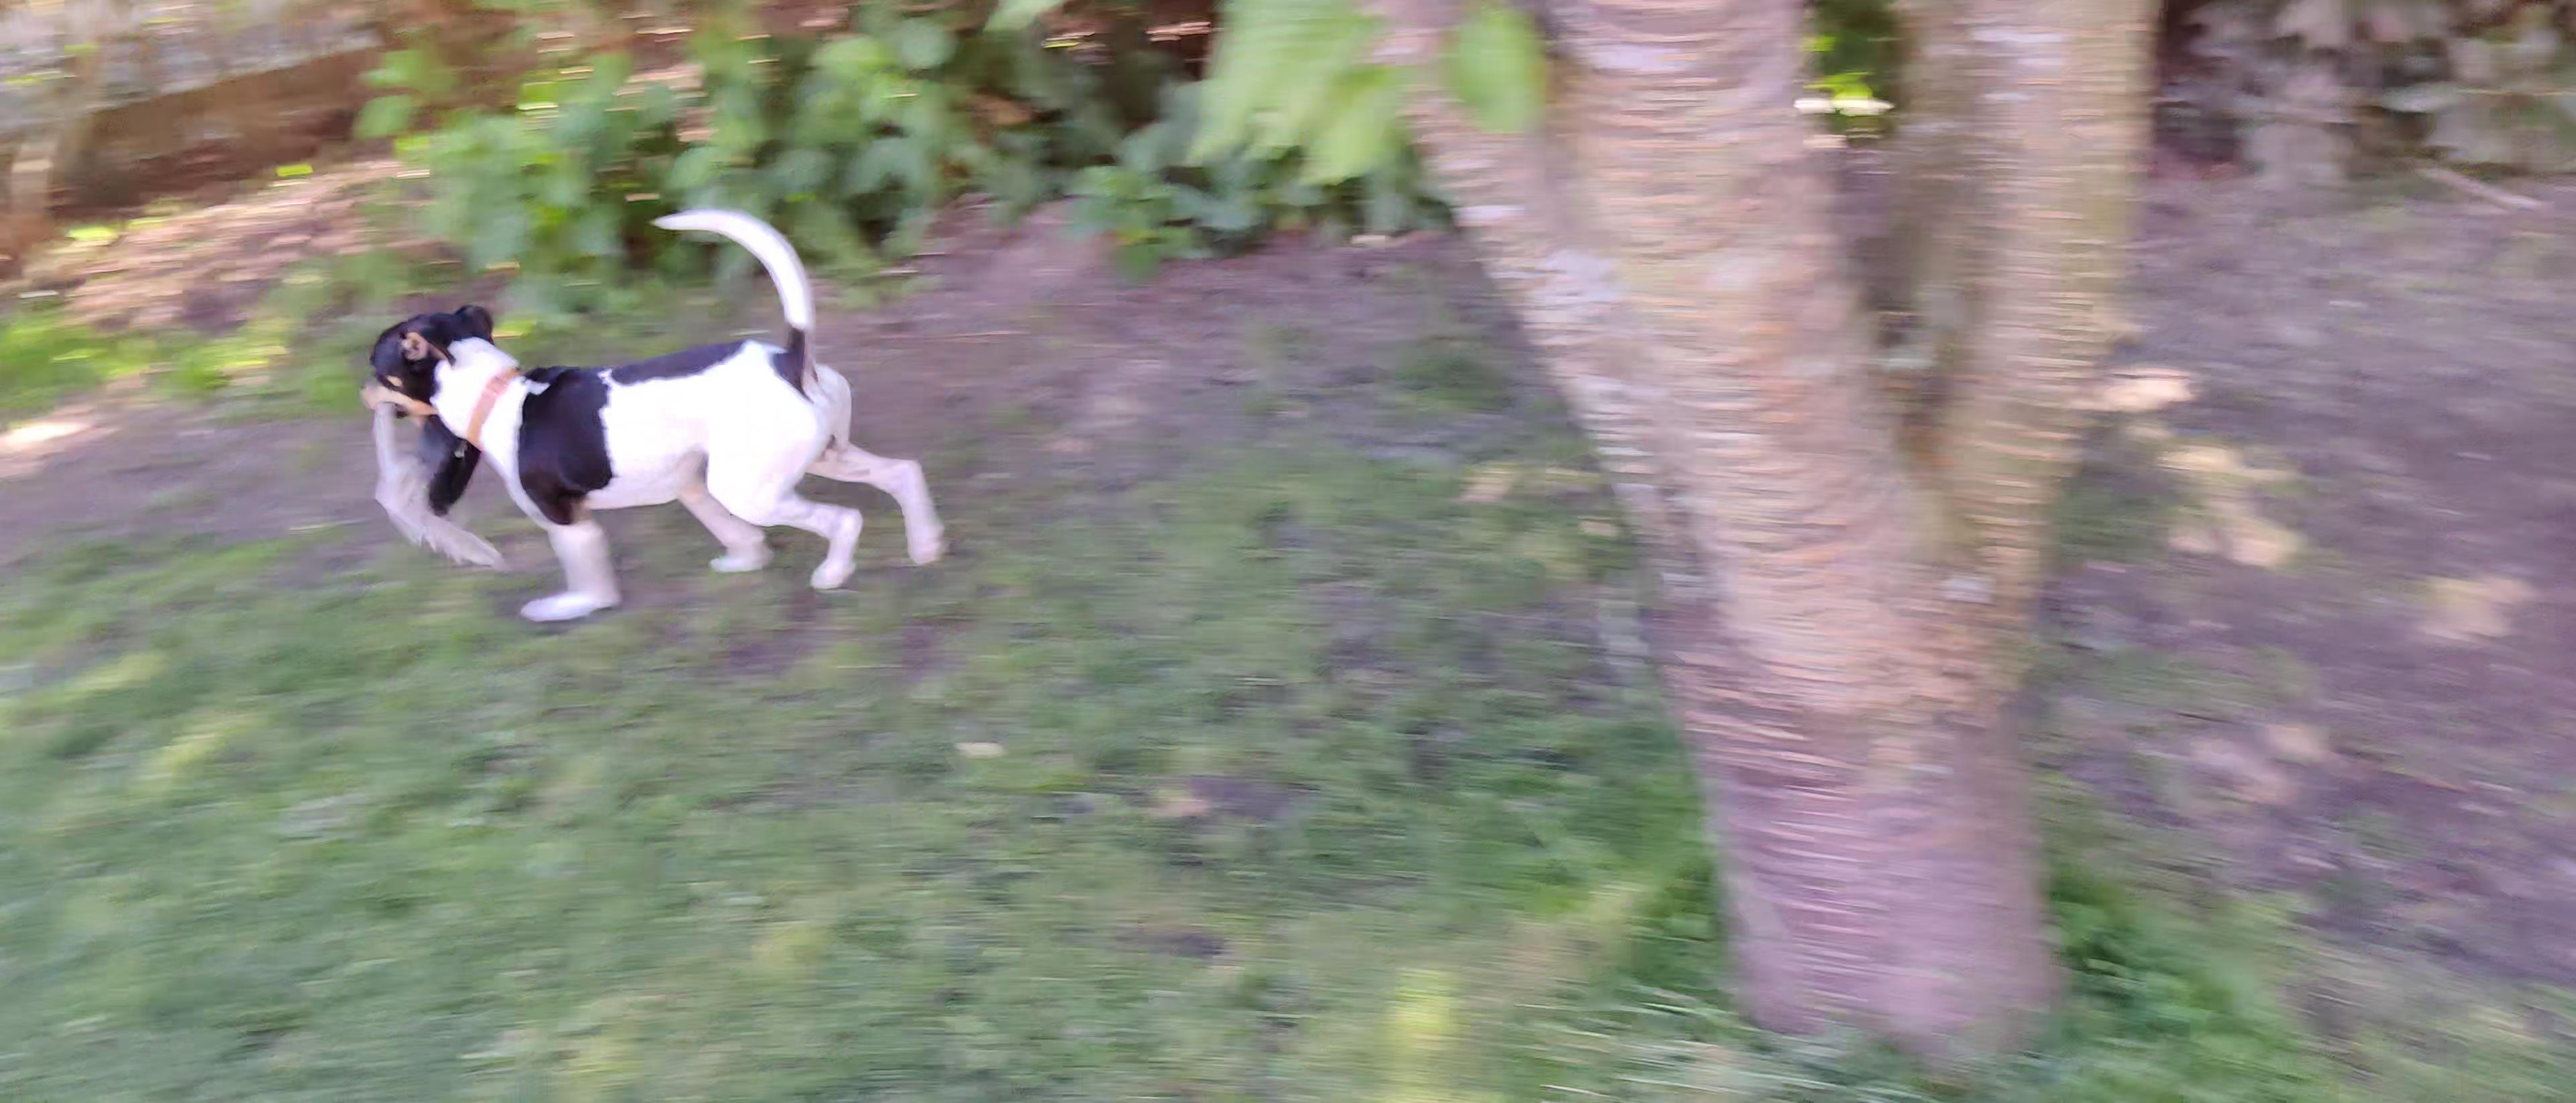Dog: (345, 202, 966, 633)
